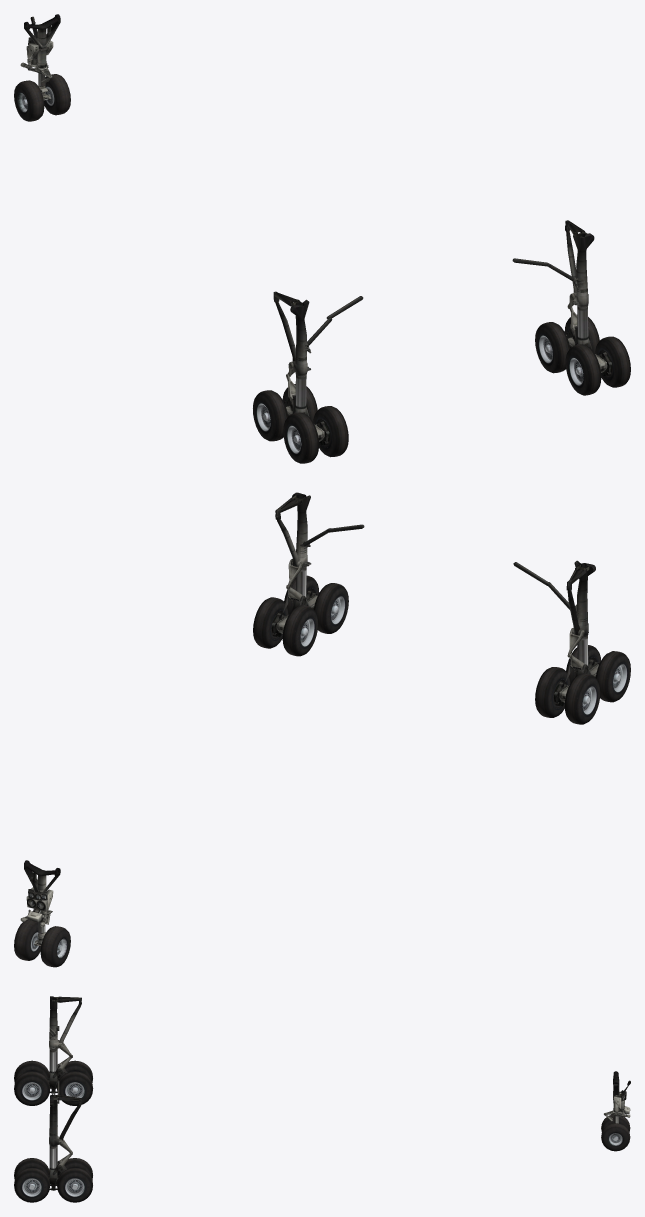
3 renders of one model, top to bottom at view 1: azimuth 30°, elevation 25°; view 2: azimuth 150°, elevation 25°; view 3: azimuth 270°, elevation 25°, orthographic. The views are drawn at different scales.
Visible parts, largest first — view 1: RGear (×2), LeftWheelBack, RightWheelBack, NoseWheel, LeftWheelFront, RightWheelFront, NGear; view 2: LeftWheelFront, RightWheelFront, RGear (×2), NoseWheel, LeftWheelBack, RightWheelBack, NGear; view 3: RGear (×2), LeftWheelBack, RightWheelBack, RightWheelFront, LeftWheelFront, NoseWheel, NGear, RightGearCompressor, LeftGearCompressor.
Boxes of the visible parts, left/top/right/bottom form: RGear (×2): left=273, top=220, right=594, bottom=376; LeftWheelBack: left=283, top=406, right=348, bottom=463; RightWheelBack: left=565, top=336, right=630, bottom=395; NoseWheel: left=14, top=74, right=70, bottom=121; LeftWheelFront: left=253, top=384, right=317, bottom=441; RightWheelFront: left=535, top=317, right=599, bottom=373; NGear: left=20, top=14, right=60, bottom=83; LeftWheelFront: left=535, top=667, right=600, bottom=724; RightWheelFront: left=253, top=597, right=318, bottom=656; RGear (×2): left=275, top=492, right=595, bottom=637; NoseWheel: left=14, top=920, right=70, bottom=967; LeftWheelBack: left=566, top=645, right=630, bottom=702; RightWheelBack: left=284, top=575, right=348, bottom=633; NGear: left=20, top=860, right=60, bottom=926; RGear (×2): left=49, top=996, right=81, bottom=1146; LeftWheelBack: left=14, top=1060, right=50, bottom=1105; RightWheelBack: left=14, top=1158, right=50, bottom=1202; RightWheelFront: left=57, top=1158, right=92, bottom=1202; LeftWheelFront: left=57, top=1060, right=93, bottom=1105; NoseWheel: left=601, top=1114, right=630, bottom=1151; NGear: left=604, top=1071, right=630, bottom=1121; RightGearCompressor: left=49, top=1146, right=57, bottom=1188; LeftGearCompressor: left=49, top=1049, right=58, bottom=1090.
Size of the model in its own units: 11.59 by 4.92 by 26.94.
Materials: 1 (1 with a texture image).
